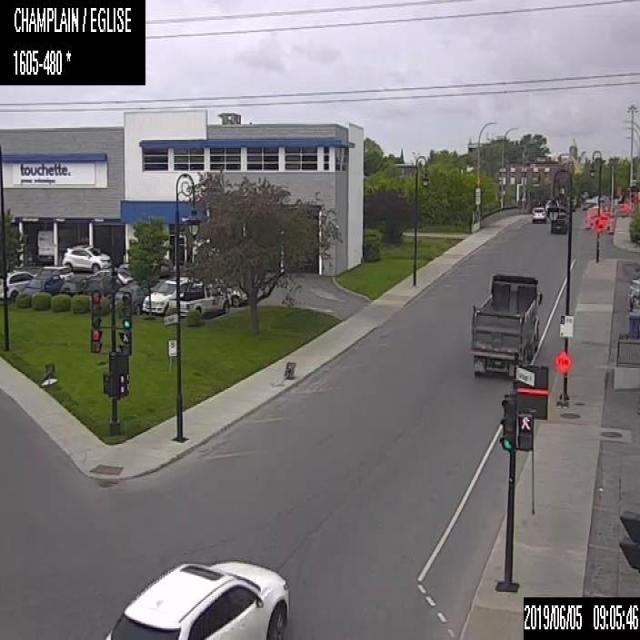construction: (271, 359, 295, 388), (552, 348, 572, 375), (39, 360, 58, 387), (592, 216, 604, 233), (584, 209, 590, 228), (608, 214, 614, 233), (605, 210, 610, 230), (588, 207, 593, 226)
vehicle: (105, 557, 289, 639), (470, 271, 542, 377), (142, 276, 202, 315), (168, 282, 231, 317), (61, 244, 111, 275), (0, 267, 37, 301), (210, 276, 247, 307), (19, 273, 64, 297), (115, 284, 152, 313), (87, 267, 133, 285), (82, 275, 119, 297), (58, 274, 89, 296), (34, 265, 74, 280), (550, 213, 568, 235), (628, 276, 639, 305), (544, 198, 559, 215), (531, 206, 545, 222)
